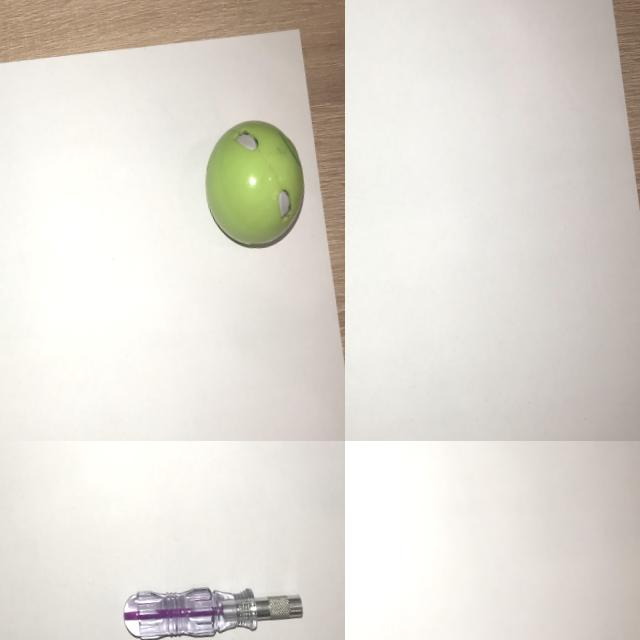screwdriver: (110, 565, 313, 640)
toy: (190, 106, 318, 262)
